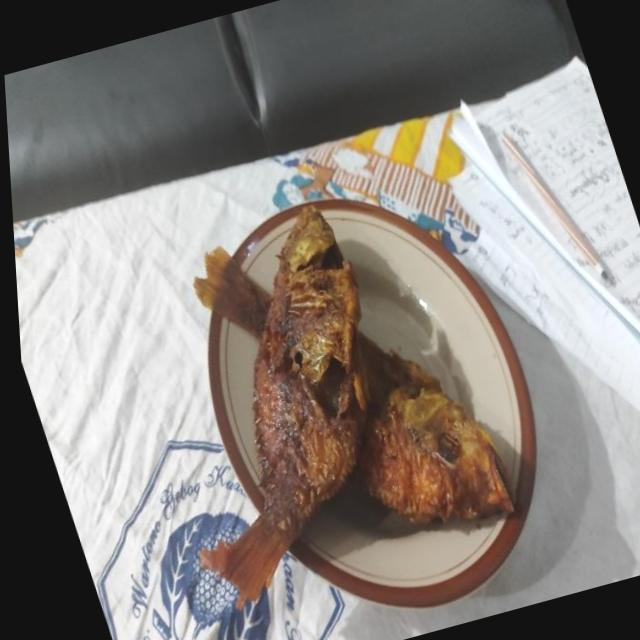ikan_mujair: (193, 246, 516, 526), (200, 204, 372, 608)
